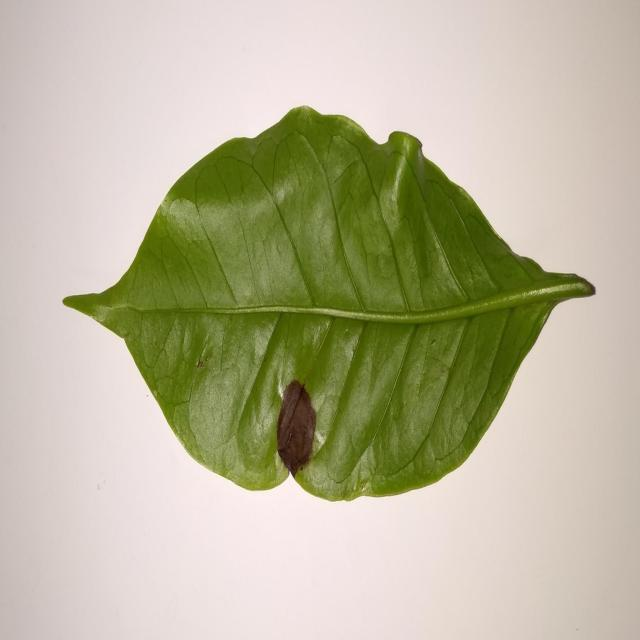Enfermedad-Antracnosis: (62, 108, 596, 504)
